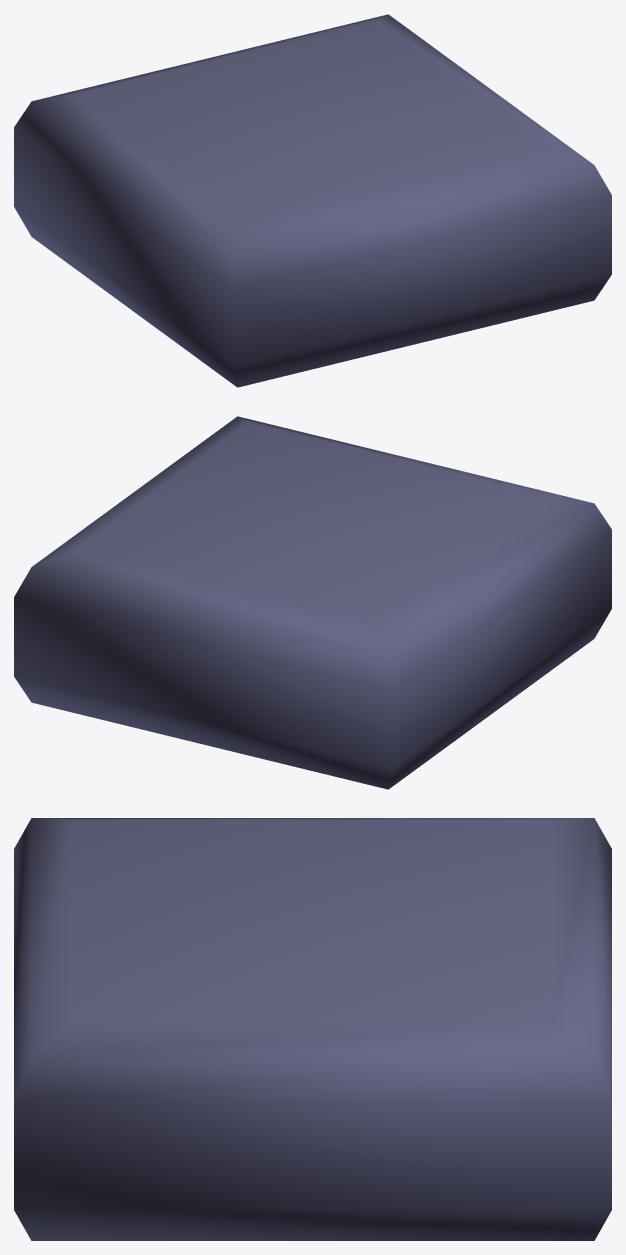
File: conveyor-sides-cross.glb
3 renders of one model, top to bottom at view 1: azimuth 30°, elevation 25°; view 2: azimuth 150°, elevation 25°; view 3: azimuth 270°, elevation 25°, orthographic. The views are drawn at different scales.
Visible parts, largest first — view 1: conveyor-sides-cross; view 2: conveyor-sides-cross; view 3: conveyor-sides-cross.
Part boxes in pixels (x1,y1,x2,y2): conveyor-sides-cross: (14,14,611,387); conveyor-sides-cross: (14,416,611,789); conveyor-sides-cross: (14,818,611,1240).
Size of the model in its own units: 1 by 0.4 by 1.
